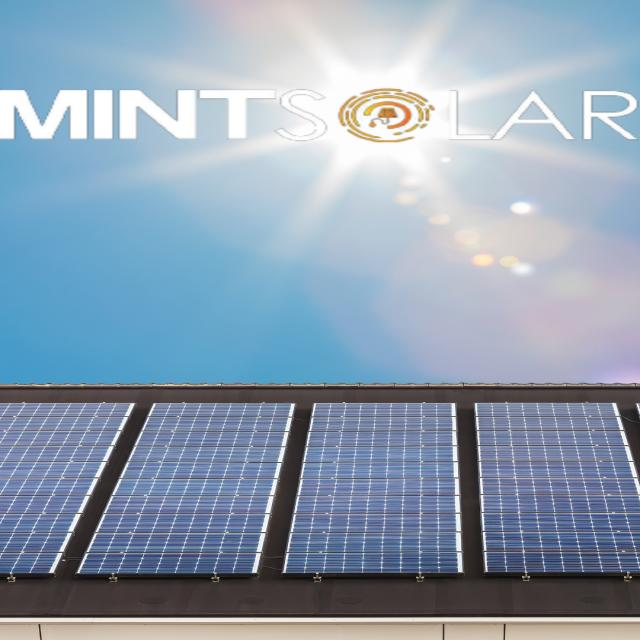clean-solar-panel: (78, 402, 296, 581), (284, 402, 462, 581), (473, 402, 638, 580), (0, 402, 133, 581)
